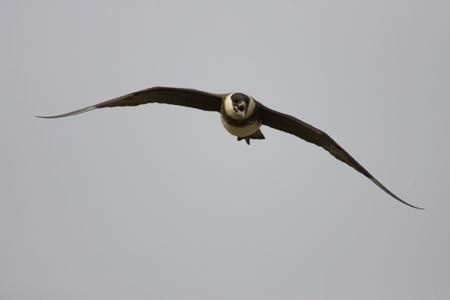bird: (34, 83, 426, 214)
